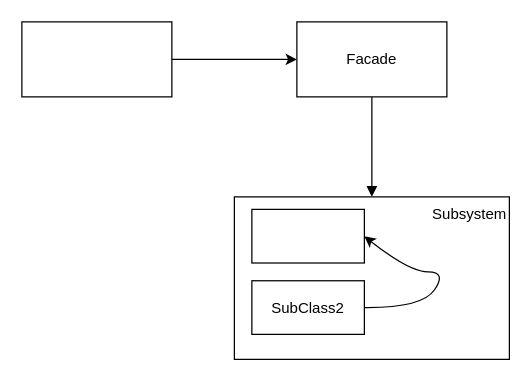
The diagram is 531 pixels wide and 381 high, and some of its shapes have lost their labels. Here are the shapes that lost their labels. From the top down, the box of each, then its label:
(21, 21, 172, 97): Client
(251, 208, 364, 263): SubClass1
